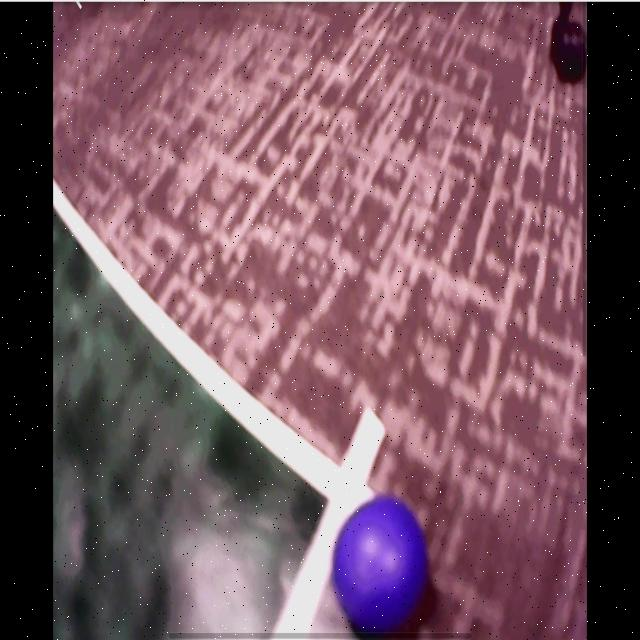ball: (334, 495, 424, 631)
